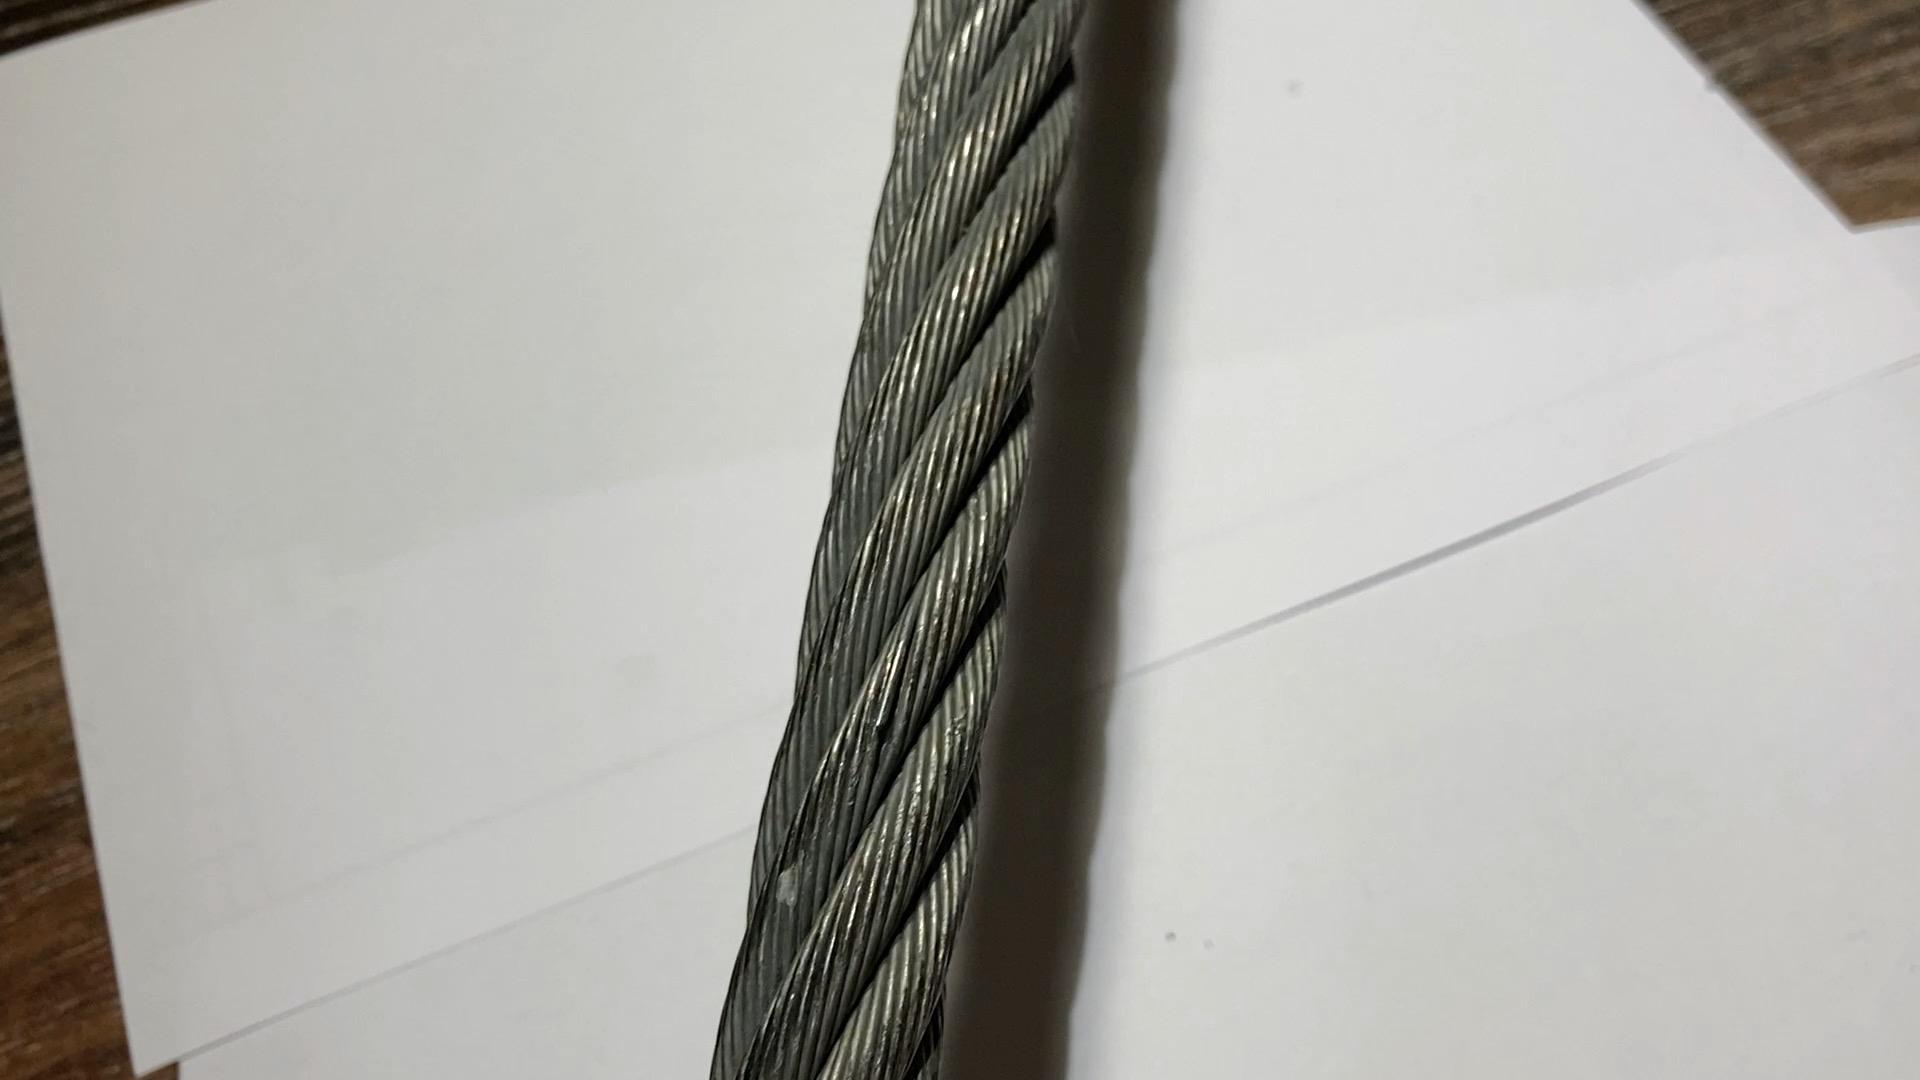break: (858, 687, 918, 746)
